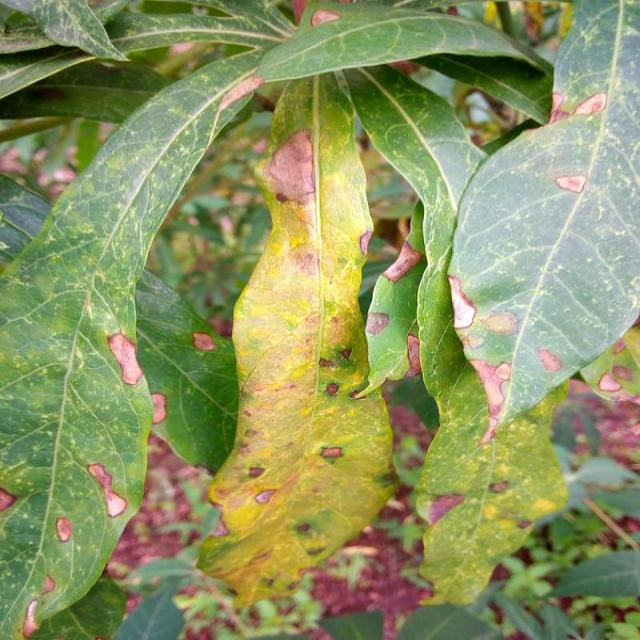cassava leaf: (0, 1, 638, 637), (0, 44, 268, 638), (194, 66, 400, 613), (446, 0, 639, 443)
